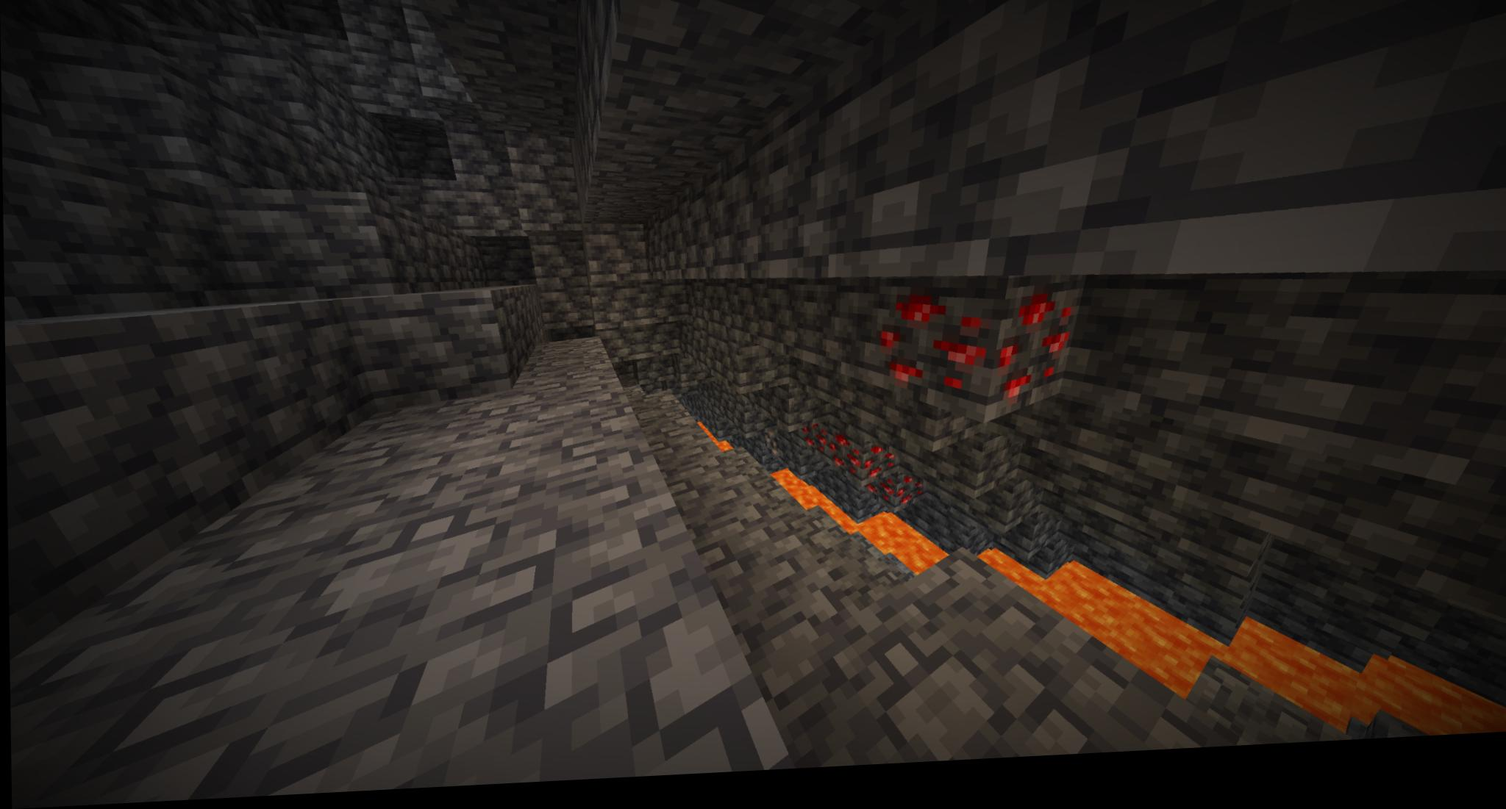redstone ore: (878, 281, 1076, 429), (872, 479, 926, 523), (823, 440, 862, 494), (858, 450, 896, 493), (794, 428, 826, 468)
